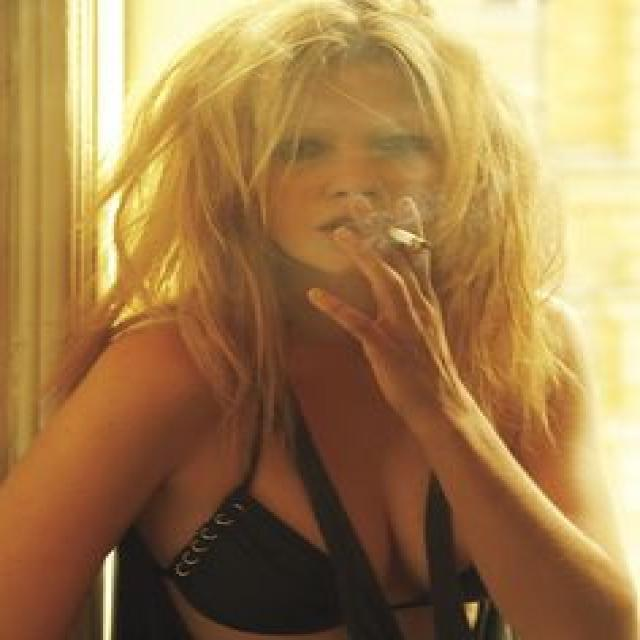rokok: (386, 224, 430, 250)
